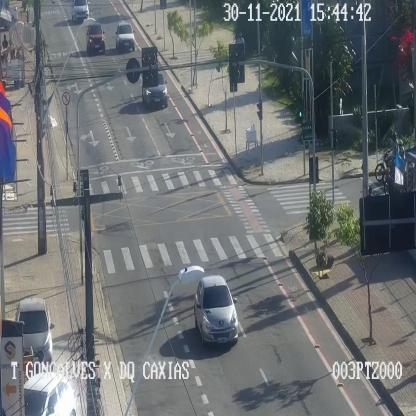car: (194, 275, 240, 346), (15, 297, 55, 370), (24, 372, 77, 416), (142, 73, 168, 107), (86, 22, 106, 51), (116, 21, 134, 48), (71, 0, 91, 22)
motorbike: (375, 132, 407, 181), (384, 140, 413, 193)
person: (237, 30, 244, 56)
